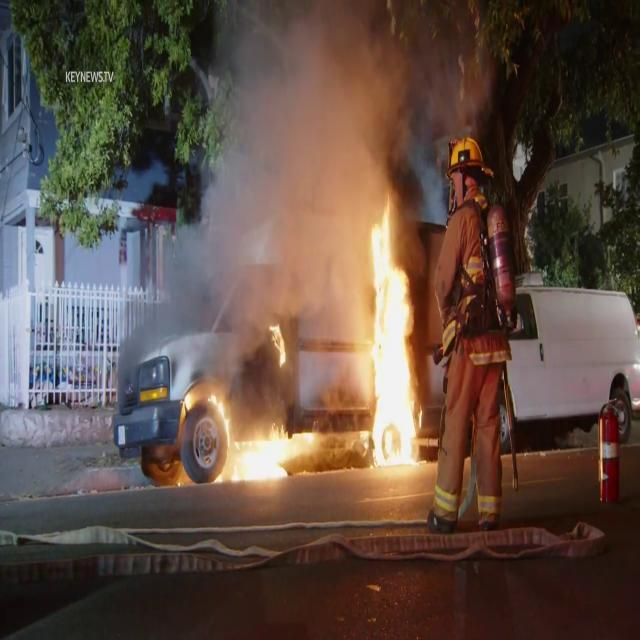Fire: (358, 197, 426, 470), (214, 408, 312, 488)
Smoke: (135, 0, 483, 358)
